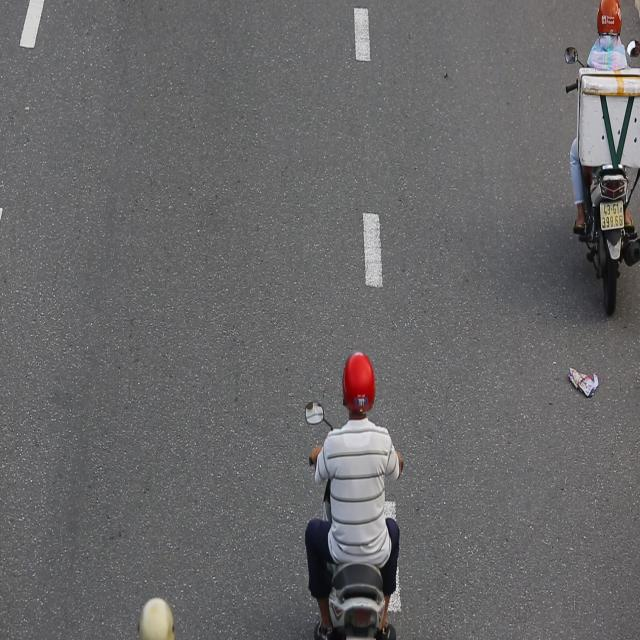motorbike: (556, 0, 640, 324)
